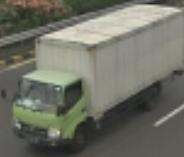truck: (1, 63, 95, 155)
